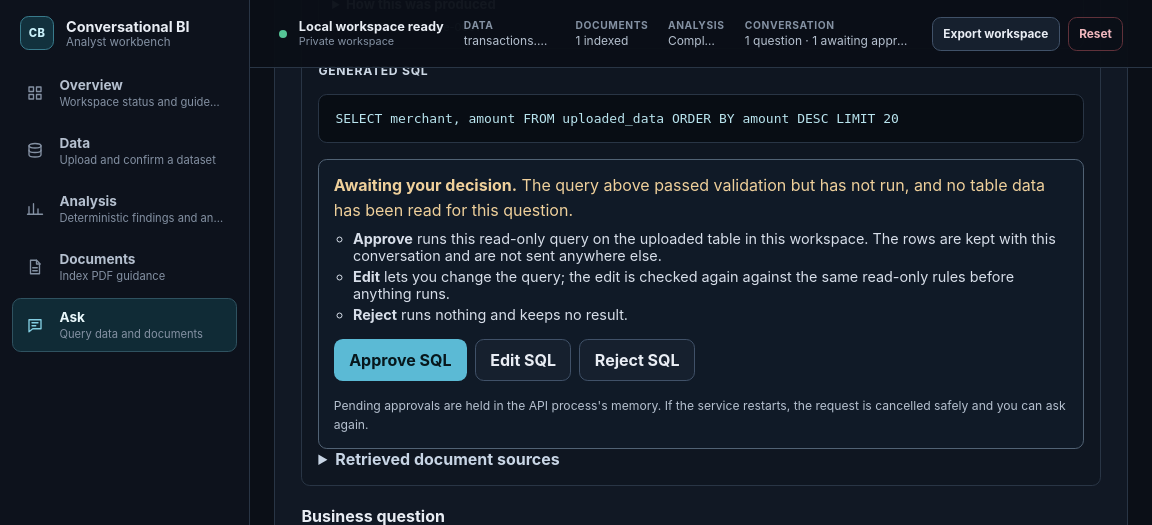
Test case: SQL approval › after a lost connection with the request still pending, waits for a check before another decision
(page scrolled)
Click the button "Approve SQL" at (400, 360), box [334,339,467,381]
(page scrolled)
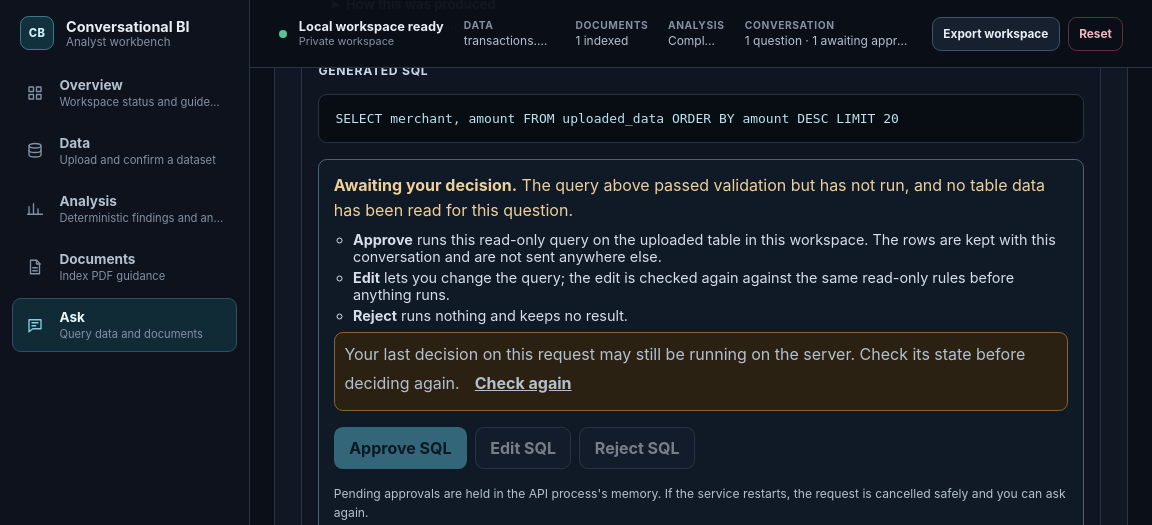
Check: the button "Approve SQL" is disabled, box [334,427,467,469]
Check: the button "Reject SQL" is disabled, box [579,427,695,469]
Click the button "Check again" at (523, 384), box [471,367,576,400]
(page scrolled)
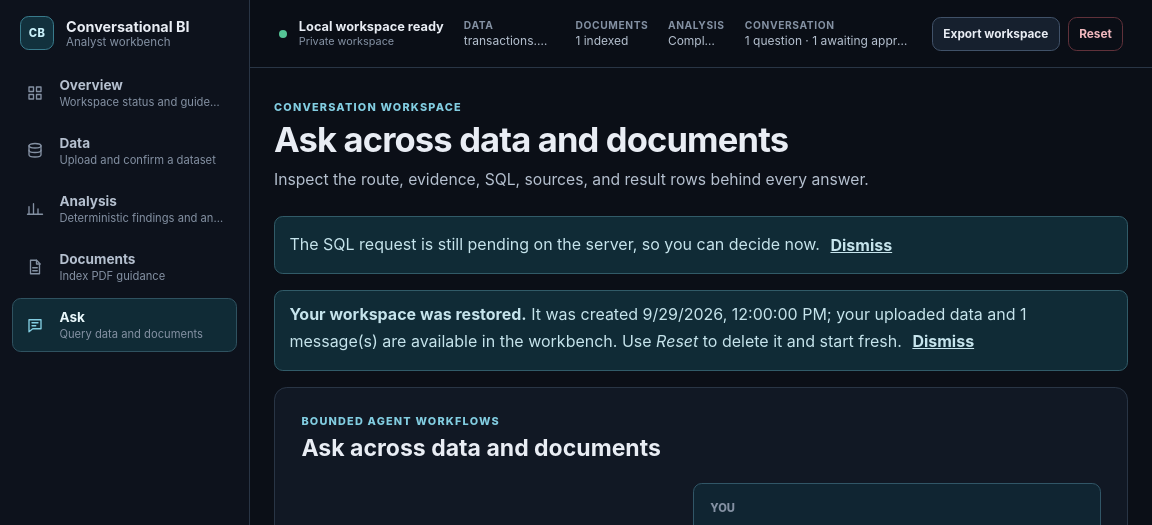
Check: the text "still pending on the server, so you can decide now" is shown, box [289,235,820,255]
